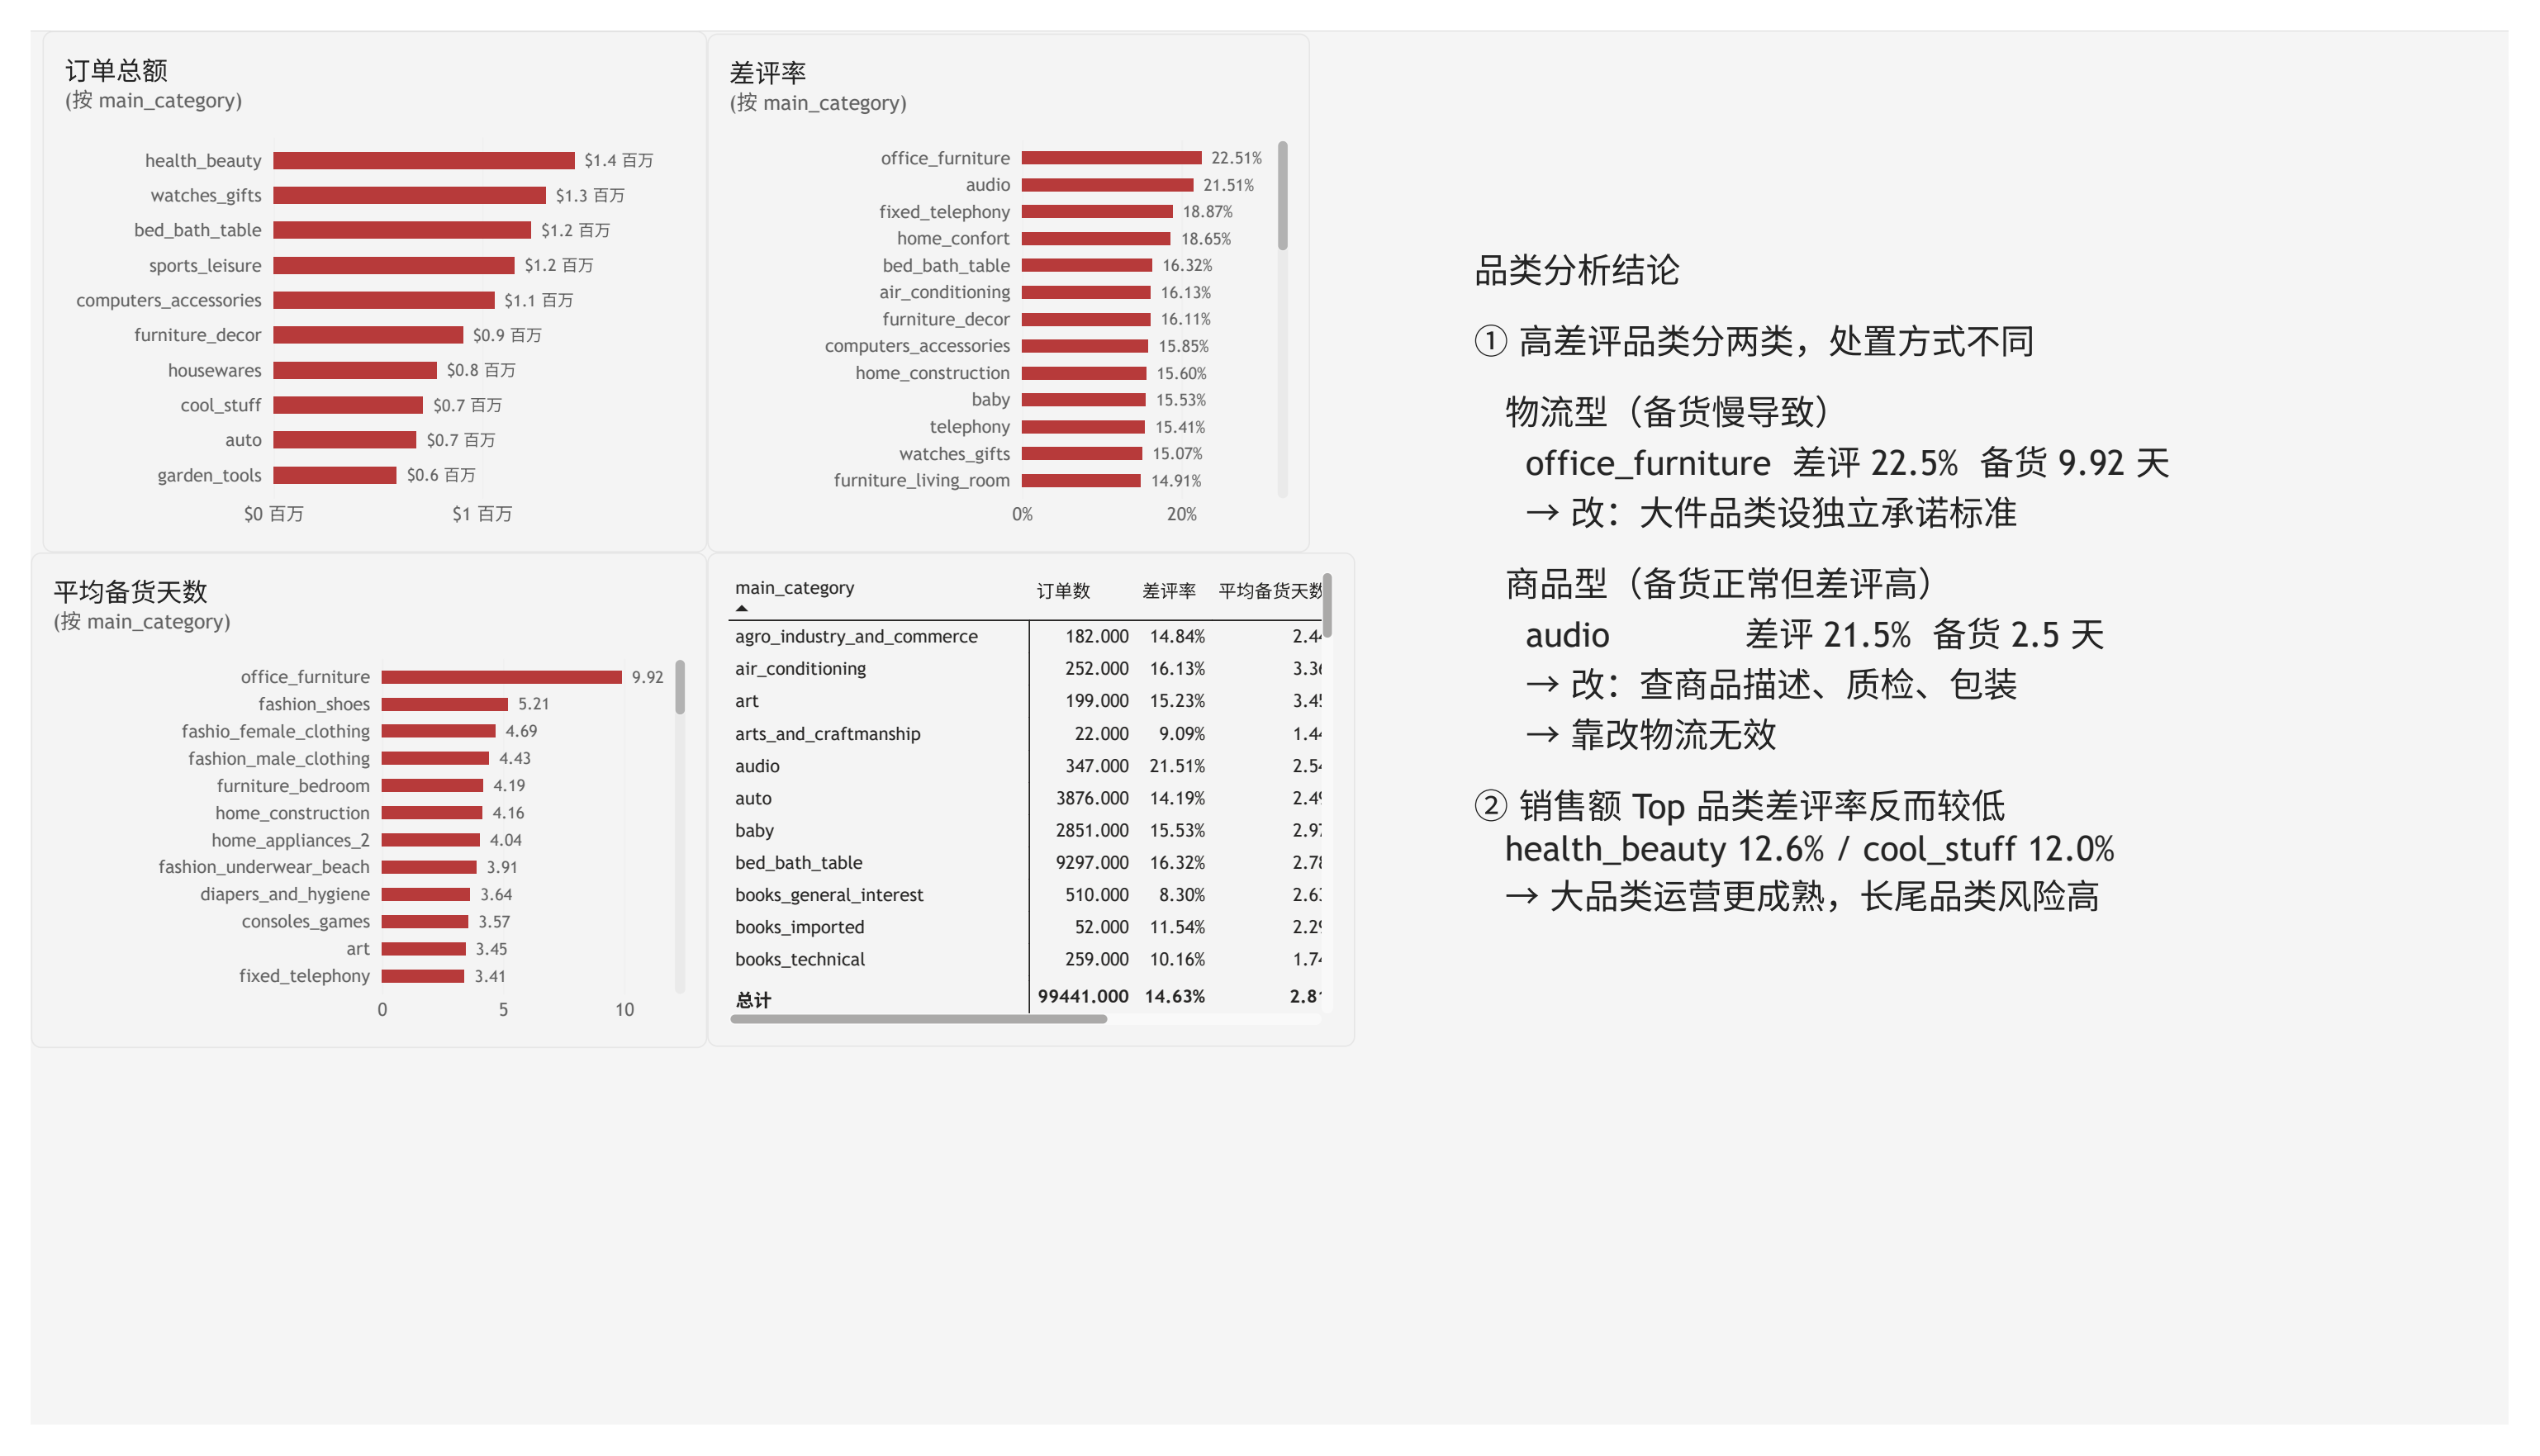

The page's visual inventory and layout, read from the dashboard file:
{"tool":"powerbi","page":{"name":"p5品类与卖家","canvas":[1920,1080],"ordinal":4},"visuals":[{"type":"clusteredBarChart","fields":{"Category":["olist v_pbi_orders.main_category"],"Y":["olist v_pbi_orders.订单总额"]},"box":[9.1,0,514.5,404.3],"z":0},{"type":"clusteredBarChart","fields":{"Category":["olist v_pbi_orders.main_category"],"Y":["olist v_pbi_orders.差评率"]},"box":[523.5,1.5,467.7,402.8],"z":1},{"type":"clusteredBarChart","fields":{"Category":["olist v_pbi_orders.main_category"],"Y":["olist v_pbi_orders.平均备货天数"]},"box":[0,404.3,523.5,383.2],"z":2},{"type":"pivotTable","fields":{"Rows":["olist v_pbi_orders.main_category"],"Values":["olist v_pbi_orders.订单数","olist v_pbi_orders.差评率","olist v_pbi_orders.平均备货天数","olist v_pbi_orders.订单总额"]},"box":[523.5,404.3,502.3,382.5],"z":3},{"type":"textbox","box":[9,868,553,212],"z":4},{"type":"textbox","box":[1117.9,147.8,623.1,588.4],"z":5}]}

Visuals, with their boxes on the page's 1920x1080 design canvas (x1, y1, x2, y2). These are canvas units, not pixel positions in the 2540x1456 screenshot, which may show the page scaled, cropped or inside an application window:
clusteredBarChart - olist v_pbi_orders.main_category x olist v_pbi_orders.订单总额: bbox(9, 0, 524, 404)
clusteredBarChart - olist v_pbi_orders.main_category x olist v_pbi_orders.差评率: bbox(524, 2, 991, 404)
clusteredBarChart - olist v_pbi_orders.main_category x olist v_pbi_orders.平均备货天数: bbox(0, 404, 524, 788)
pivotTable - olist v_pbi_orders.main_category x olist v_pbi_orders.订单数: bbox(524, 404, 1026, 787)
textbox: bbox(9, 868, 562, 1080)
textbox: bbox(1118, 148, 1741, 736)
